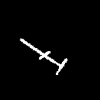double_crochet: (21, 39, 66, 74)
